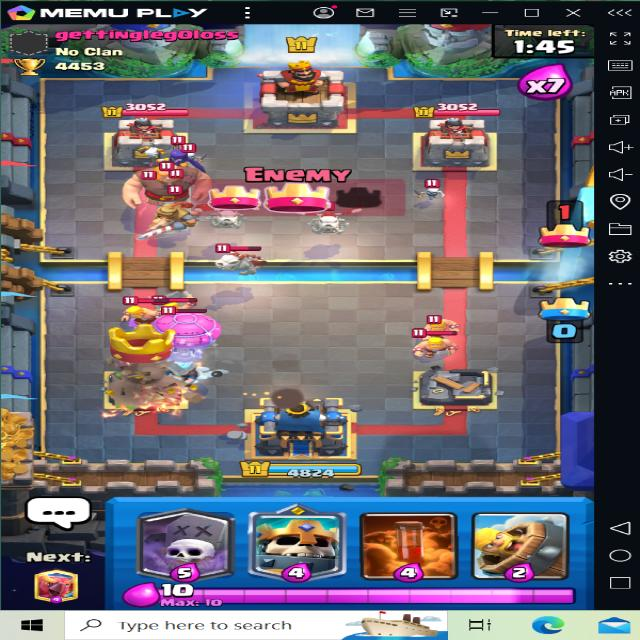Balloon: (154, 312, 223, 370)
Barbarian: (413, 326, 459, 357), (112, 300, 167, 324), (156, 293, 203, 316), (410, 310, 458, 332)
Giant: (126, 156, 214, 207)
Prince: (138, 195, 203, 241)
Skeleton: (422, 180, 446, 200)
Skeletondragon: (299, 201, 357, 238), (207, 192, 266, 228), (211, 239, 272, 271)
witch: (156, 136, 209, 176)
